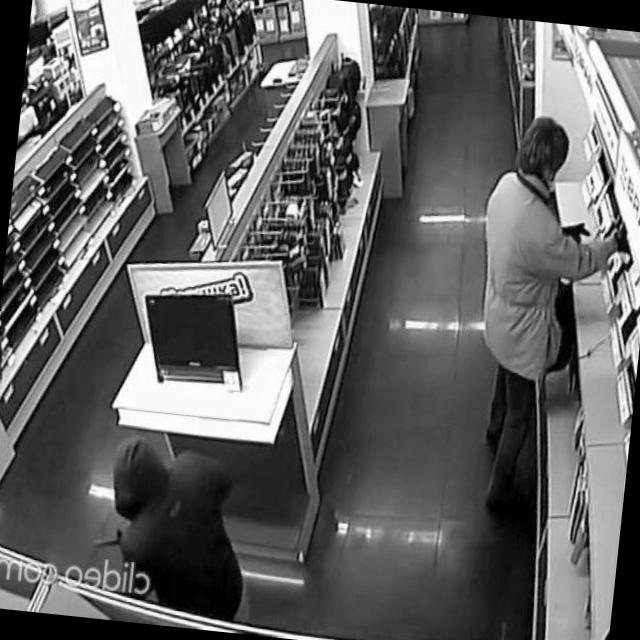gun: (91, 524, 129, 554)
person: (450, 108, 588, 523)
person with a gun: (75, 429, 268, 628)
